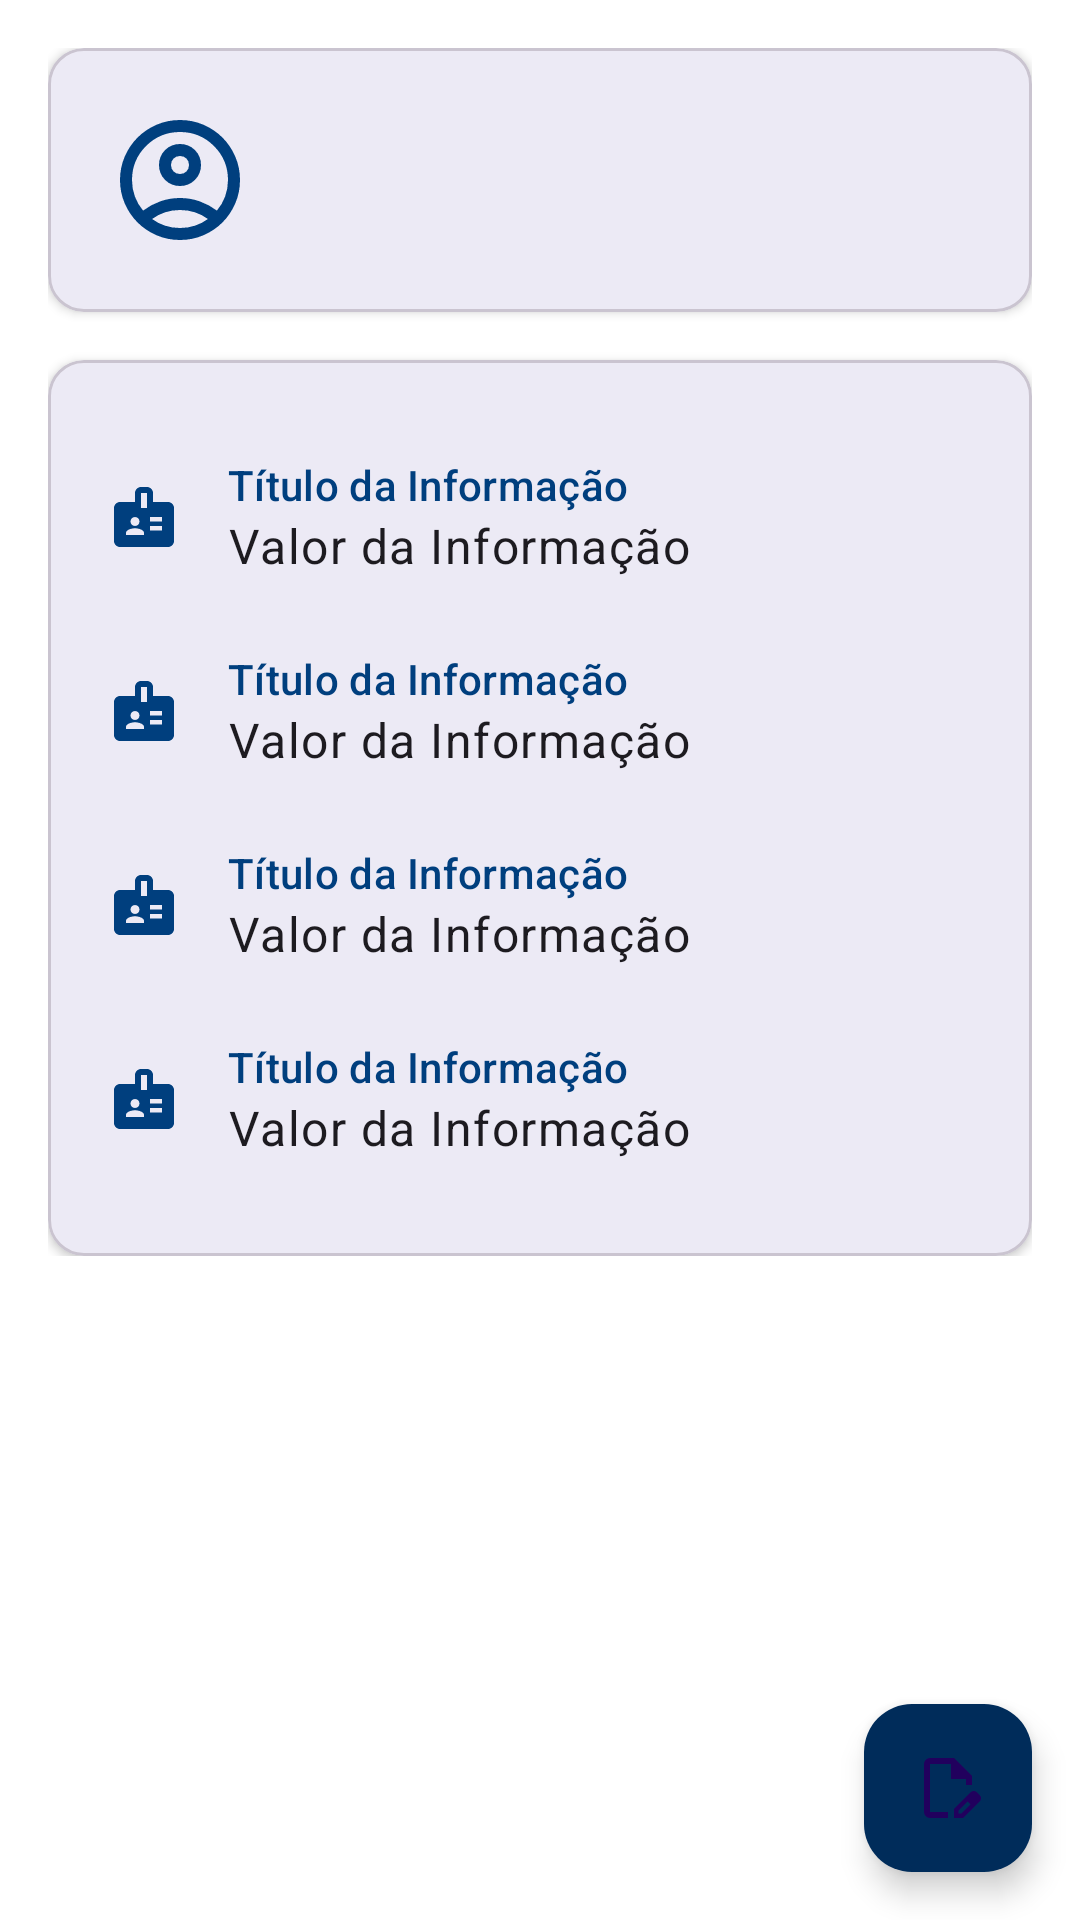

Named icons in this screenshot (1080w x 1920h) and their centers, (x,y):
Editar Cliente: (948,1788)
Ícone de cliente: (180,180)
